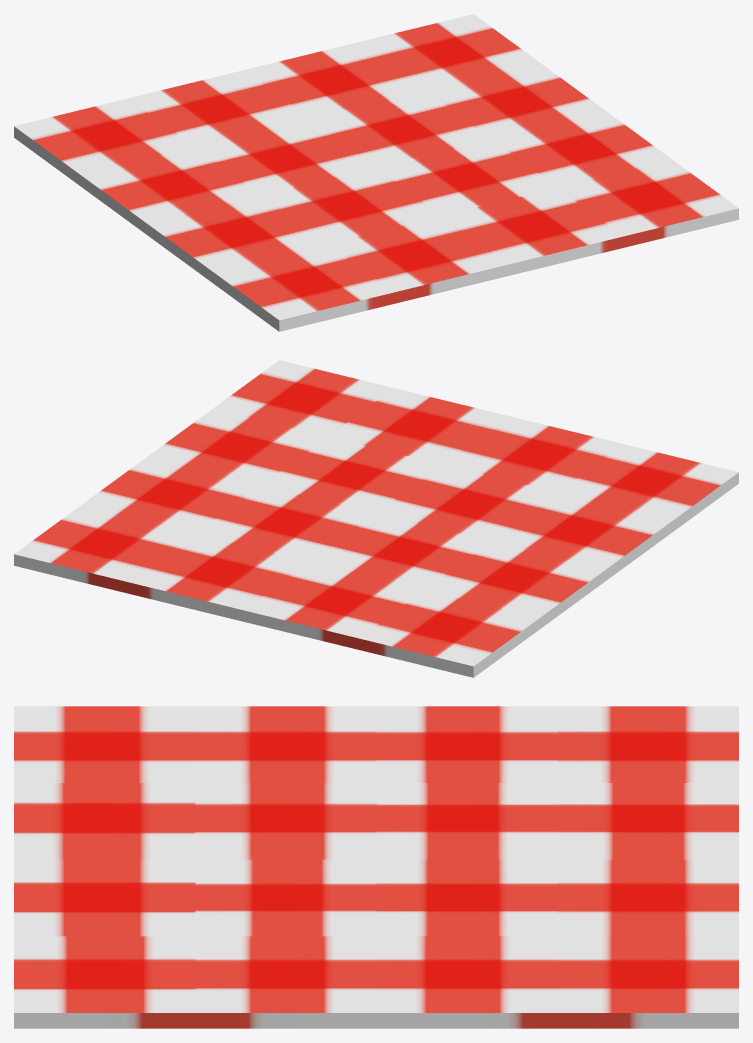
The model's file is picnic-cloth 1.obj.
3 renders of one model, top to bottom at view 1: azimuth 30°, elevation 25°; view 2: azimuth 150°, elevation 25°; view 3: azimuth 270°, elevation 25°, orthographic. The views are drawn at different scales.
Parts seen in each view (by area): view 1: picnic-cloth_Plane.001; view 2: picnic-cloth_Plane.001; view 3: picnic-cloth_Plane.001.
Part boxes in pixels (x1=…): picnic-cloth_Plane.001: x1=14, y1=14, x2=738, y2=331; picnic-cloth_Plane.001: x1=14, y1=360, x2=738, y2=677; picnic-cloth_Plane.001: x1=14, y1=706, x2=738, y2=1028.
Bounding box in the file's own units: 1.39 × 0.033 × 1.39.
